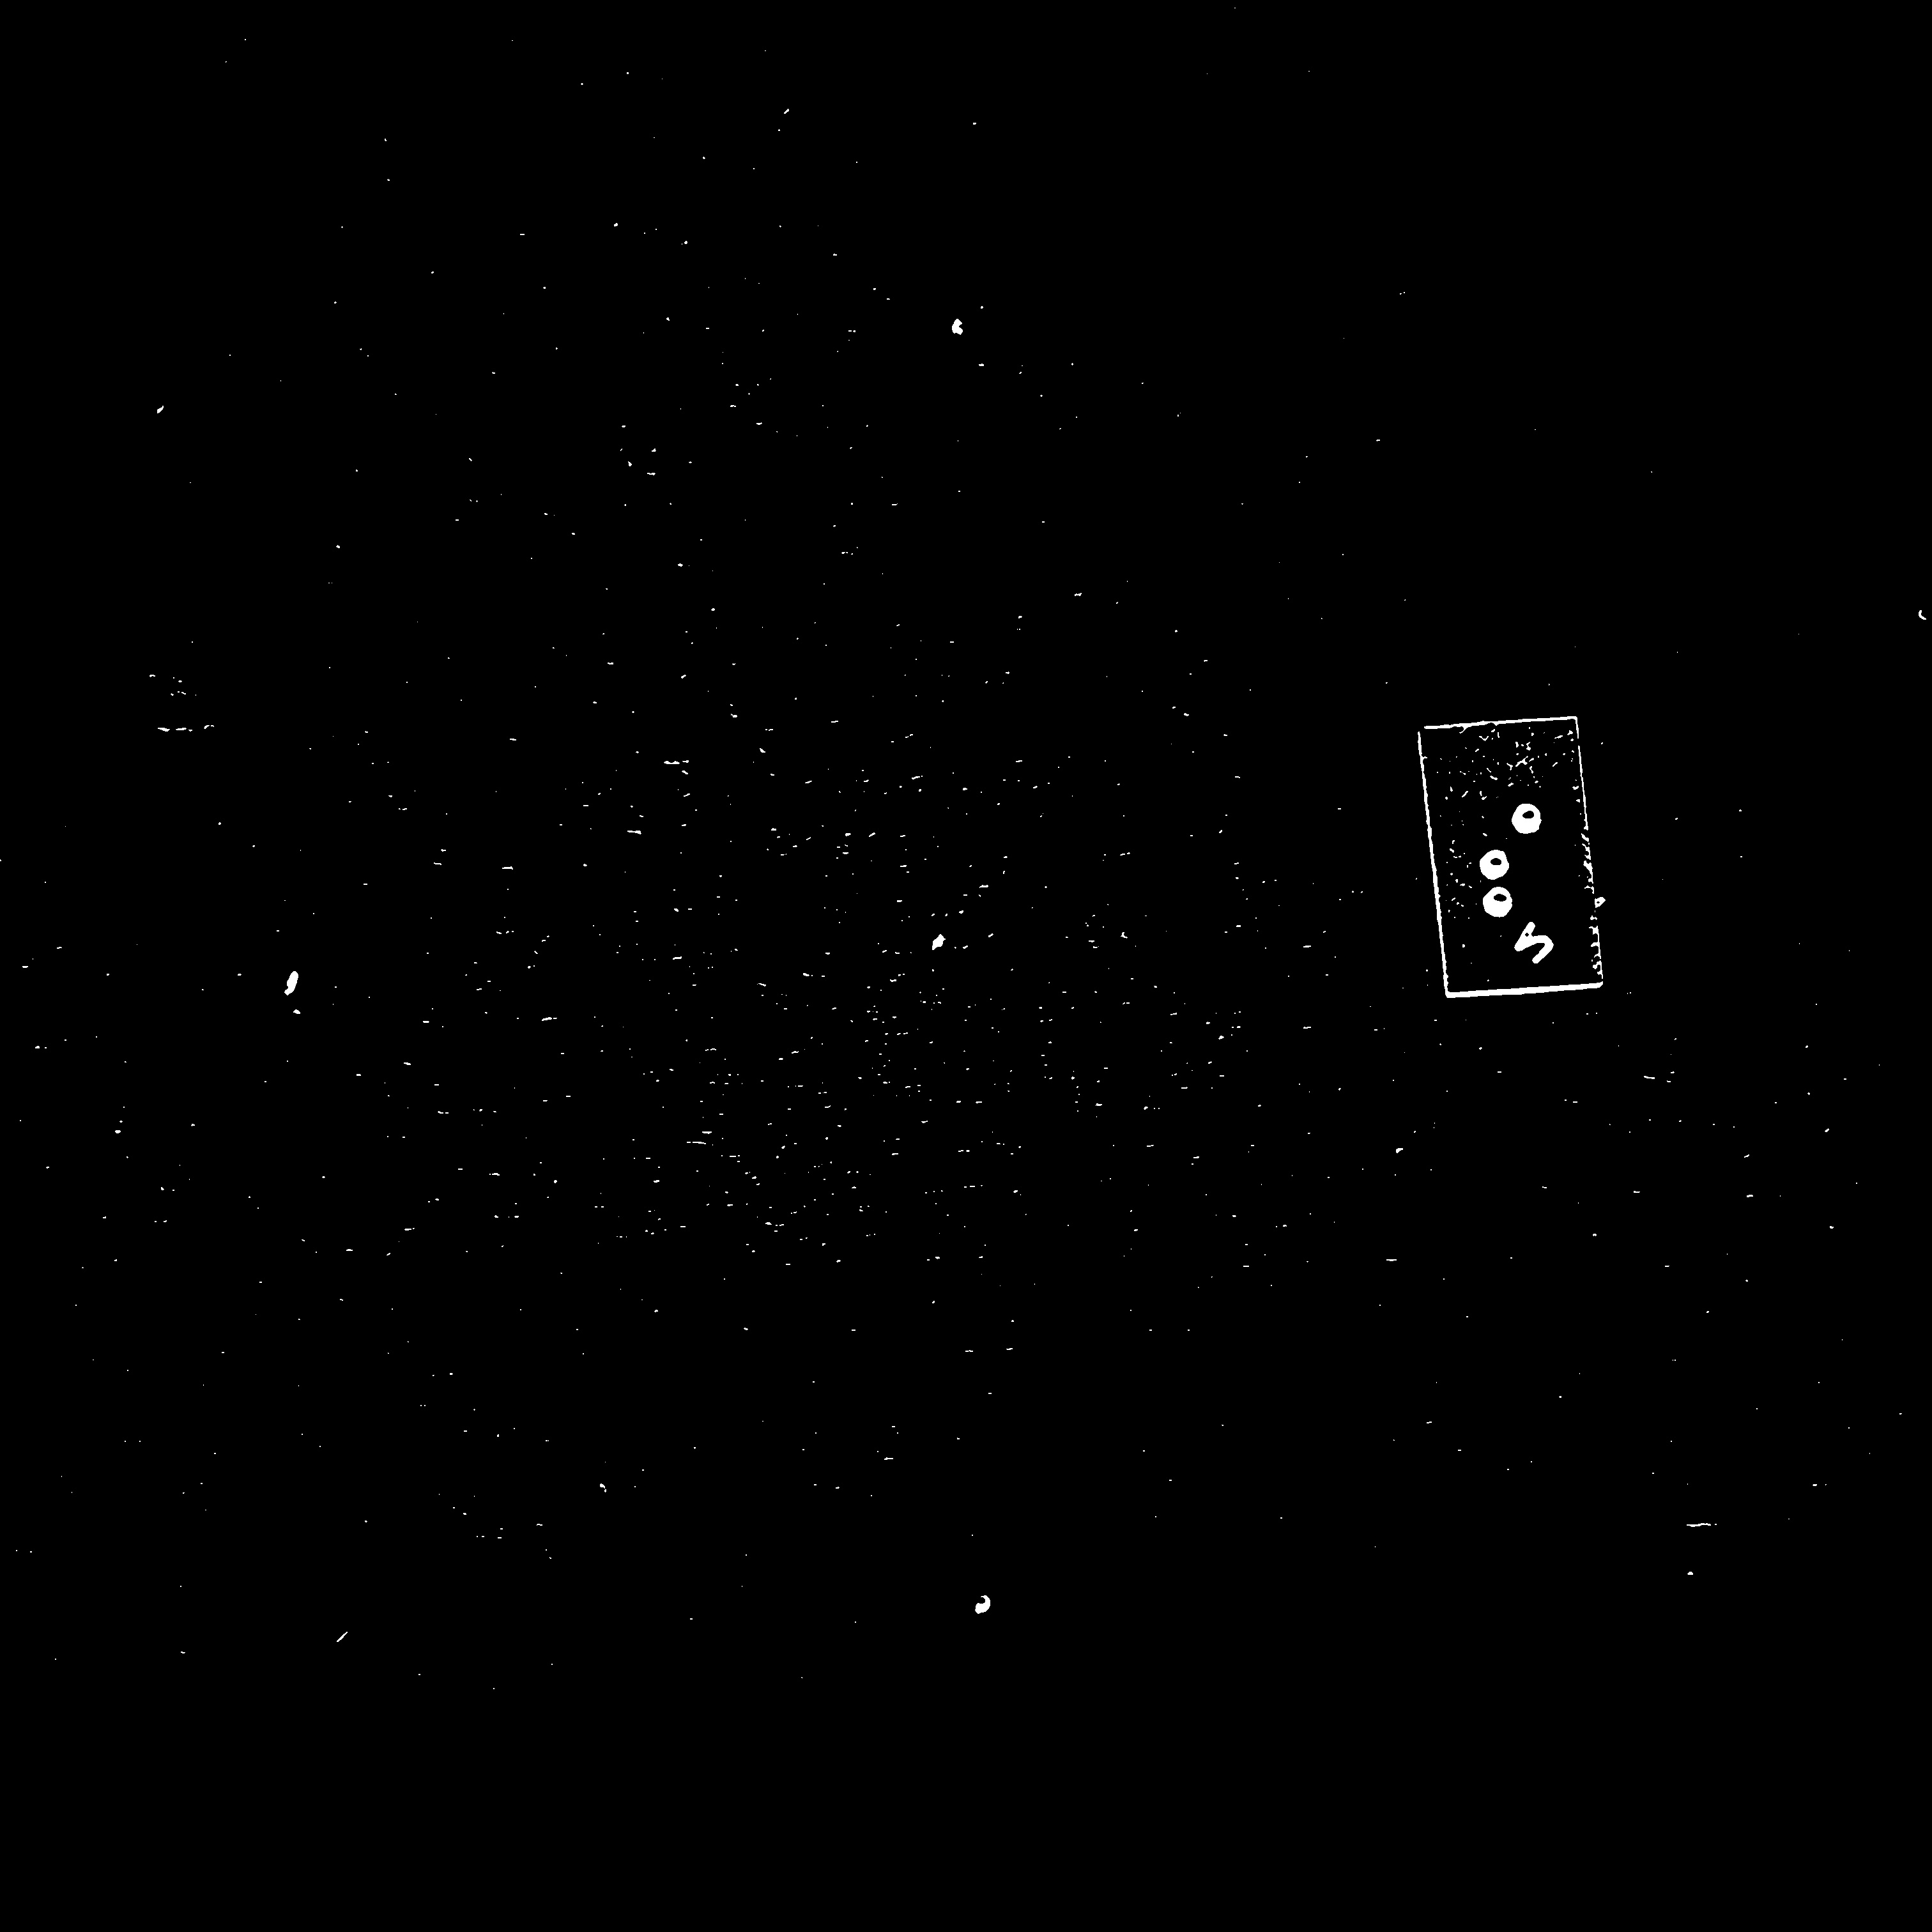s: (1472, 798, 1560, 923)
